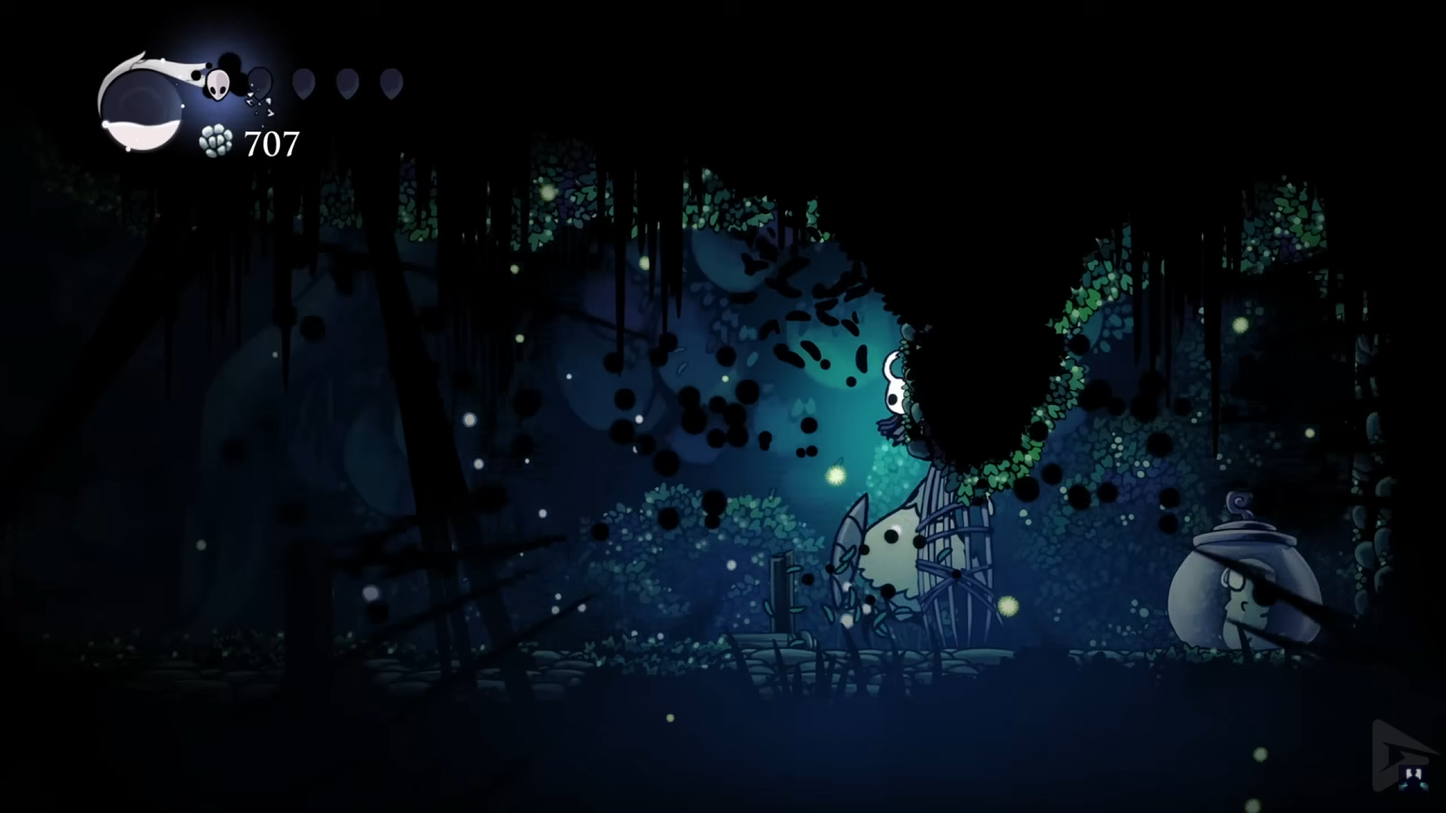HK: (875, 350, 906, 447)
